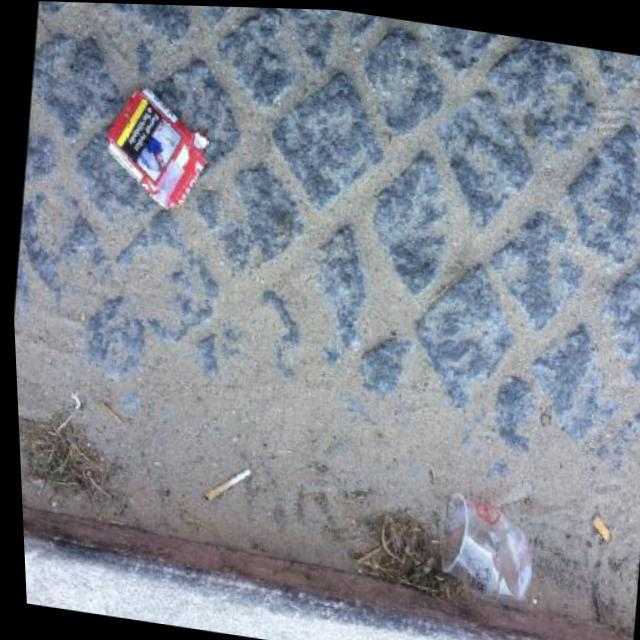cardboard: (93, 81, 216, 216)
foam: (200, 462, 251, 507)
plastic: (432, 489, 540, 604)
